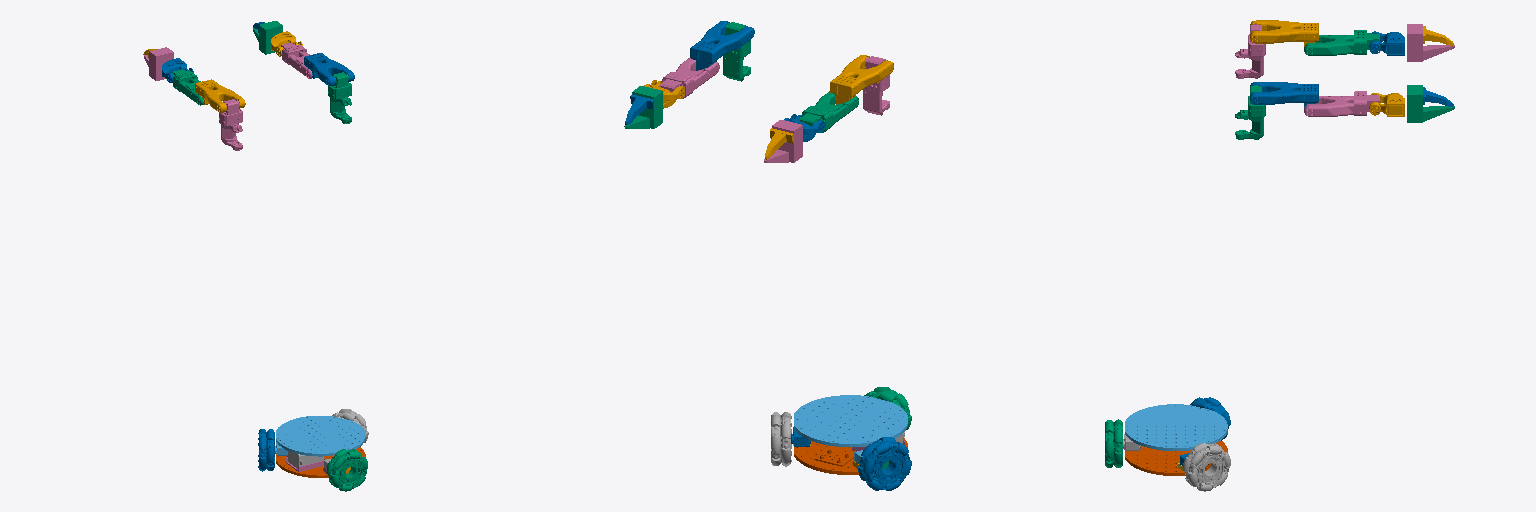
--- What the picture shows (computed from the rendered views, not written in the file) ---
The picture shows the robot from 3 angles, left to right: view 1: azimuth 30°, elevation 25°; view 2: azimuth 150°, elevation 25°; view 3: azimuth 270°, elevation 25°; orthographic projection.
Model converted_robot with 54 links and 53 joints (18 revolute, 35 fixed), rooted at world, posed all joints at 0.
Visible links, largest first — view 1: base_plate_layer2-v1, 4-Omni-Directional-Wheel_Single_Body-v1-2, Rotation_Pitch, Rotation_Pitch_R, Upper_Arm, Upper_Arm_2, 4-Omni-Directional-Wheel_Single_Body-v1, Lower_Arm_2, Lower_Arm, Fixed_Jaw_2, Fixed_Jaw; view 2: base_plate_layer2-v1, 4-Omni-Directional-Wheel_Single_Body-v1, Upper_Arm, Upper_Arm_2, Lower_Arm, Lower_Arm_2, base_plate_layer1-v5-1, 4-Omni-Directional-Wheel_Single_Body-v1-1, Fixed_Jaw_2, Rotation_Pitch, Fixed_Jaw, Rotation_Pitch_R (+1 smaller); view 3: base_plate_layer2-v1, 4-Omni-Directional-Wheel_Single_Body-v1-1, Upper_Arm_2, Upper_Arm, Lower_Arm_2, Lower_Arm, base_plate_layer1-v5-1, Fixed_Jaw, Fixed_Jaw_2, Rotation_Pitch, Rotation_Pitch_R, 4-Omni-Directional-Wheel_Single_Body-v1-2 (+2 smaller).
Boxes of the visible links, x1,y1,x2,y2 form: base_plate_layer2-v1: (276,416,365,456); 4-Omni-Directional-Wheel_Single_Body-v1-2: (327,449,367,491); Rotation_Pitch: (328,72,351,123); Rotation_Pitch_R: (219,99,242,150); Upper_Arm: (304,53,354,85); Upper_Arm_2: (195,79,245,112); 4-Omni-Directional-Wheel_Single_Body-v1: (258,429,274,471); Lower_Arm_2: (172,69,202,105); Lower_Arm: (281,42,312,78); Fixed_Jaw_2: (143,47,173,80); Fixed_Jaw: (253,21,282,54); base_plate_layer2-v1: (794,395,907,446); 4-Omni-Directional-Wheel_Single_Body-v1: (858,437,911,490); Upper_Arm: (690,21,754,70); Upper_Arm_2: (830,55,893,104); Lower_Arm: (659,58,719,98); Lower_Arm_2: (799,91,858,132); base_plate_layer1-v5-1: (794,438,907,474); 4-Omni-Directional-Wheel_Single_Body-v1-1: (771,412,791,466); Fixed_Jaw_2: (764,120,802,162); Rotation_Pitch: (723,22,750,81); Fixed_Jaw: (624,86,662,128); Rotation_Pitch_R: (863,56,889,115); base_plate_layer2-v1: (1125,404,1227,450); 4-Omni-Directional-Wheel_Single_Body-v1-1: (1183,443,1230,491); Upper_Arm_2: (1250,20,1318,46); Upper_Arm: (1250,82,1318,107); Lower_Arm_2: (1304,30,1379,55); Lower_Arm: (1304,91,1379,116); base_plate_layer1-v5-1: (1125,441,1227,475); Fixed_Jaw: (1407,85,1454,122); Fixed_Jaw_2: (1407,24,1454,61); Rotation_Pitch: (1235,85,1265,139); Rotation_Pitch_R: (1235,24,1265,78); 4-Omni-Directional-Wheel_Single_Body-v1-2: (1105,419,1122,467).
Size in the robot's own frame: 0.3701 by 0.7274 by 0.9354 metres.
Meshes: 31 distinct files referenced, 44 mesh visuals loaded (31 OBJ).

URDF robot description (converted_robot):
<?xml version="1.0" ?>
<robot name="converted_robot">
   <!--generated with mjcf_urdf_simple_converter (https://github.com/Yasu31/mjcf_urdf_simple_converter)-->
   <link name="world">
      <inertial>
         <origin xyz="0.0 0.0 0.0" rpy="0.0 0.0 0.0"/>
         <mass value="0.0"/>
         <inertia ixx="0.0" iyy="0.0" izz="0.0" ixy="0" ixz="0" iyz="0"/>
      </inertial>
   </link>
   <link name="chassis">
      <inertial>
         <origin xyz="-0.03 0.0 0.44" rpy="0.0 0.0 0.0"/>
         <mass value="121.60000000000002"/>
         <inertia ixx="7.474346666666668" iyy="7.474346666666668" izz="3.242666666666668" ixy="0" ixz="0" iyz="0"/>
      </inertial>
   </link>
   <link name="slide_joint_x_jointbody">
      <inertial>
         <origin xyz="0.0 0.0 0.0" rpy="0.0 0.0 0.0"/>
         <mass value="0.001"/>
         <inertia ixx="1e-09" iyy="1e-09" izz="1e-09" ixy="0" ixz="0" iyz="0"/>
      </inertial>
   </link>
   <joint type="fixed" name="slide_joint_x">
      <parent link="world"/>
      <child link="slide_joint_x_jointbody"/>
      <origin xyz="0.0 0.0 0.035" rpy="0.0 0.0 1.5707963267948963"/>
   </joint>
   <link name="slide_joint_y_jointbody">
      <inertial>
         <origin xyz="0.0 0.0 0.0" rpy="0.0 0.0 0.0"/>
         <mass value="0.001"/>
         <inertia ixx="1e-09" iyy="1e-09" izz="1e-09" ixy="0" ixz="0" iyz="0"/>
      </inertial>
   </link>
   <joint type="fixed" name="slide_joint_y">
      <parent link="slide_joint_x_jointbody"/>
      <child link="slide_joint_y_jointbody"/>
      <origin xyz="0.0 0.0 0.0" rpy="0.0 0.0 0.0"/>
   </joint>
   <link name="hinge_joint_z_jointbody">
      <inertial>
         <origin xyz="0.0 0.0 0.0" rpy="0.0 0.0 0.0"/>
         <mass value="0.001"/>
         <inertia ixx="1e-09" iyy="1e-09" izz="1e-09" ixy="0" ixz="0" iyz="0"/>
      </inertial>
   </link>
   <joint type="revolute" name="hinge_joint_z">
      <parent link="slide_joint_y_jointbody"/>
      <child link="hinge_joint_z_jointbody"/>
      <origin xyz="0.0 0.0 0.0" rpy="0.0 0.0 0.0"/>
      <axis xyz="0.0 0.0 1.0"/>
      <limit lower="0.0" upper="0.0" effort="100" velocity="100"/>
   </joint>
   <joint type="fixed" name="hinge_joint_z_offset">
      <parent link="hinge_joint_z_jointbody"/>
      <child link="chassis"/>
      <origin xyz="-0.0 -0.0 -0.0" rpy="0.0 0.0 0.0"/>
   </joint>
   <link name="base_plate_layer1-v5-1">
      <inertial>
         <origin xyz="-4.730687660675253e-15 -2.7155537377808555e-05 -0.0035000000000000005" rpy="1.5707963267948966 -1.5707963267948966 0.0"/>
         <mass value="1.9468624348344596"/>
         <inertia ixx="0.0112496514690387" iyy="0.005637109888809055" izz="0.005628440956780792" ixy="0" ixz="0" iyz="0"/>
      </inertial>
      <visual name="base_plate_layer1-v5-1">
         <origin xyz="1.6547356910896818e-18 0.0003708838643271301 -0.0035000000000000434" rpy="3.141592653589793 -1.5707963267948966 0.0"/>
         <geometry>
            <mesh filename="meshes/converted_base_plate_layer1-v5-1_1a1a1aff.obj"/>
         </geometry>
      </visual>
   </link>
   <joint type="fixed" name="chassis2base_plate_layer1-v5-1_fixed">
      <parent link="chassis"/>
      <child link="base_plate_layer1-v5-1"/>
      <origin xyz="0.0 0.0 0.0" rpy="0.0 0.0 -1.5707999999999993"/>
   </joint>
   <link name="drive_motor_mount-v4-3">
      <inertial>
         <origin xyz="0.00017900181977195112 -0.0006914486154622601 0.0004348187449640745" rpy="1.3326788530607252 -1.533188470457113 1.8286854094213272"/>
         <mass value="0.035884017191401885"/>
         <inertia ixx="6.895012244323654e-06" iyy="3.897590469217182e-06" izz="3.2229576175696904e-06" ixy="0" ixz="0" iyz="0"/>
      </inertial>
      <visual name="drive_motor_mount-v4-3">
         <origin xyz="0.0006880539295430664 -0.0025756555856569115 0.001979233474666263" rpy="1.3672248714922477 -1.4830259761528417 1.8282641372384638"/>
         <geometry>
            <mesh filename="meshes/converted_drive_motor_mount-v4-3_1a1a1aff.obj"/>
         </geometry>
      </visual>
   </link>
   <joint type="fixed" name="base_plate_layer1-v5-12drive_motor_mount-v4-3_fixed">
      <parent link="base_plate_layer1-v5-1"/>
      <child link="drive_motor_mount-v4-3"/>
      <origin xyz="-0.020610000007450578 -0.09 0.0020000000000000018" rpy="0.0 0.0 -1.5707963267948963"/>
   </joint>
   <link name="ST3215_Servo_Motor-v1-2">
      <inertial>
         <origin xyz="-0.014664257020729004 -0.008722816656342332 1.2191853053420506e-06" rpy="0.6957375816405541 -1.5704955441732595 2.4128218254215477"/>
         <mass value="0.0658962961901927"/>
         <inertia ixx="1.8215749563864646e-05" iyy="1.3917640925369588e-05" izz="1.0296958536422064e-05" ixy="0" ixz="0" iyz="0"/>
      </inertial>
      <visual name="ST3215_Servo_Motor-v1-2">
         <origin xyz="-0.012685069814093846 -0.009246147385842583 7.93229148671097e-06" rpy="1.1168843627729075e-13 -1.5701888467550913 3.0843844425769635"/>
         <geometry>
            <mesh filename="meshes/converted_ST3215_Servo_Motor-v1-2_1a1a1aff.obj"/>
         </geometry>
      </visual>
   </link>
   <joint type="fixed" name="drive_motor_mount-v4-32ST3215_Servo_Motor-v1-2_fixed">
      <parent link="drive_motor_mount-v4-3"/>
      <child link="ST3215_Servo_Motor-v1-2"/>
      <origin xyz="0.00959999999999999 -0.004889999992549421 0.01436" rpy="0.0 0.0 -1.5707963267948966"/>
   </joint>
   <link name="3_8-Hex-Bore-Plastic-VersaHub-217-5828-v2-2">
      <inertial>
         <origin xyz="8.50877658112488e-09 7.358945011137765e-09 0.0023811166424899887" rpy="1.3775846542408896 -1.5707963267948966 0.0"/>
         <mass value="0.08665496109754897"/>
         <inertia ixx="2.2911778015411222e-05" iyy="1.2296292386099882e-05" izz="1.2296275448662767e-05" ixy="0" ixz="0" iyz="0"/>
      </inertial>
      <visual name="3_8-Hex-Bore-Plastic-VersaHub-217-5828-v2-2">
         <origin xyz="-2.31740751855449e-07 4.3490670360543145e-11 0.002156353199442062" rpy="1.5707963267948966 -1.5707963267948966 0.0"/>
         <geometry>
            <mesh filename="meshes/converted_3_8-Hex-Bore-Plastic-VersaHub-217-5828-v2-2_1a1a1aff.obj"/>
         </geometry>
      </visual>
   </link>
   <link name="ST3215_Servo_Motor-v1-2_Hub---Servo_jointbody">
      <inertial>
         <origin xyz="0.0 0.0 0.0" rpy="0.0 0.0 0.0"/>
         <mass value="0.001"/>
         <inertia ixx="1e-09" iyy="1e-09" izz="1e-09" ixy="0" ixz="0" iyz="0"/>
      </inertial>
   </link>
   <joint type="revolute" name="ST3215_Servo_Motor-v1-2_Hub---Servo">
      <parent link="ST3215_Servo_Motor-v1-2"/>
      <child link="ST3215_Servo_Motor-v1-2_Hub---Servo_jointbody"/>
      <origin xyz="-0.0255 0.009600000000000011 -1.6014967130217864e-18" rpy="1.5707963267948963 0.0 3.141592653589793"/>
      <axis xyz="6.887535064975403e-49 -3.749399456654644e-33 1.0"/>
      <limit lower="0.0" upper="0.0" effort="100" velocity="100"/>
   </joint>
   <joint type="fixed" name="ST3215_Servo_Motor-v1-2_Hub---Servo_offset">
      <parent link="ST3215_Servo_Motor-v1-2_Hub---Servo_jointbody"/>
      <child link="3_8-Hex-Bore-Plastic-VersaHub-217-5828-v2-2"/>
      <origin xyz="4.4408920985006255e-18 3.469446951953615e-18 0.0015874999999999917" rpy="0.0 0.0 0.0"/>
   </joint>
   <link name="4-Omni-Directional-Wheel_Single_Body-v1-2">
      <inertial>
         <origin xyz="-7.105207895657716e-08 -1.1369917947312704e-07 -1.2090586078983279e-08" rpy="1.1450942699554405 -1.5707963267948966 0.0"/>
         <mass value="1.3542854082324305"/>
         <inertia ixx="0.0018798127501507855" iyy="0.0010936224157465258" izz="0.001093608469727632" ixy="0" ixz="0" iyz="0"/>
      </inertial>
      <visual name="4-Omni-Directional-Wheel_Single_Body-v1-2">
         <origin xyz="-4.3761463834788893e-07 -2.2167493676611812e-07 -6.051796797618865e-07" rpy="-2.8016263573762226 -1.5707588802687238 -1.7315038292053941e-12"/>
         <geometry>
            <mesh filename="meshes/converted_4-Omni-Directional-Wheel_Single_Body-v1-2_1a1a1aff.obj"/>
         </geometry>
      </visual>
   </link>
   <joint type="fixed" name="3_8-Hex-Bore-Plastic-VersaHub-217-5828-v2-224-Omni-Directional-Wheel_Single_Body-v1-2_fixed">
      <parent link="3_8-Hex-Bore-Plastic-VersaHub-217-5828-v2-2"/>
      <child link="4-Omni-Directional-Wheel_Single_Body-v1-2"/>
      <origin xyz="-2.453269466693399e-18 0.0 0.0174625" rpy="3.141592653589793 0.0 0.26179938779914935"/>
   </joint>
   <link name="drive_motor_mount-v4-2">
      <inertial>
         <origin xyz="0.00017900181977194513 -0.0006914486154622601 0.00043481874496407525" rpy="1.3326788530607043 -1.5331884704571133 1.8286854094213254"/>
         <mass value="0.035884017191401885"/>
         <inertia ixx="6.895012244323669e-06" iyy="3.897590469217222e-06" izz="3.222957617569707e-06" ixy="0" ixz="0" iyz="0"/>
      </inertial>
      <visual name="drive_motor_mount-v4-2">
         <origin xyz="0.0006880539295430664 -0.0025756555856569115 0.001979233474666263" rpy="1.3672248714922477 -1.4830259761528417 1.8282641372384638"/>
         <geometry>
            <mesh filename="meshes/converted_drive_motor_mount-v4-2_1a1a1aff.obj"/>
         </geometry>
      </visual>
   </link>
   <joint type="fixed" name="base_plate_layer1-v5-12drive_motor_mount-v4-2_fixed">
      <parent link="base_plate_layer1-v5-1"/>
      <child link="drive_motor_mount-v4-2"/>
      <origin xyz="0.08824728634432479 0.027151216421550314 0.001999999999999993" rpy="0.0 0.0 0.5235987755982998"/>
   </joint>
   <link name="ST3215_Servo_Motor-v1-1">
      <inertial>
         <origin xyz="-0.014664257020728995 -0.008722816656342374 1.2191853053600496e-06" rpy="0.6957375816405406 -1.5704955441732595 2.4128218254215343"/>
         <mass value="0.0658962961901927"/>
         <inertia ixx="1.821574956386424e-05" iyy="1.3917640925369832e-05" izz="1.0296958536421656e-05" ixy="0" ixz="0" iyz="0"/>
      </inertial>
      <visual name="ST3215_Servo_Motor-v1-1">
         <origin xyz="-0.012685069814093846 -0.009246147385842583 7.93229148671097e-06" rpy="1.1168843627729075e-13 -1.5701888467550913 3.0843844425769635"/>
         <geometry>
            <mesh filename="meshes/converted_ST3215_Servo_Motor-v1-1_1a1a1aff.obj"/>
         </geometry>
      </visual>
   </link>
   <joint type="fixed" name="drive_motor_mount-v4-22ST3215_Servo_Motor-v1-1_fixed">
      <parent link="drive_motor_mount-v4-2"/>
      <child link="ST3215_Servo_Motor-v1-1"/>
      <origin xyz="0.010400000000000081 -0.004889999992549394 0.014359999999999984" rpy="8.881784197001252e-16 0.0 -1.5707963267948966"/>
   </joint>
   <link name="3_8-Hex-Bore-Plastic-VersaHub-217-5828-v2-1">
      <inertial>
         <origin xyz="8.508776579152501e-09 7.358945011269938e-09 0.0023811166424899787" rpy="1.3775846494379476 -1.5707963267948963 0.0"/>
         <mass value="0.08665496109754897"/>
         <inertia ixx="2.2911778015411093e-05" iyy="1.2296292386099982e-05" izz="1.2296275448663169e-05" ixy="0" ixz="0" iyz="0"/>
      </inertial>
      <visual name="3_8-Hex-Bore-Plastic-VersaHub-217-5828-v2-1">
         <origin xyz="-2.31740751855449e-07 4.3490670360543145e-11 0.002156353199442062" rpy="1.5707963267948966 -1.5707963267948966 0.0"/>
         <geometry>
            <mesh filename="meshes/converted_3_8-Hex-Bore-Plastic-VersaHub-217-5828-v2-1_1a1a1aff.obj"/>
         </geometry>
      </visual>
   </link>
   <link name="ST3215_Servo_Motor-v1-1_Hub-2---Servo_jointbody">
      <inertial>
         <origin xyz="0.0 0.0 0.0" rpy="0.0 0.0 0.0"/>
         <mass value="0.001"/>
         <inertia ixx="1e-09" iyy="1e-09" izz="1e-09" ixy="0" ixz="0" iyz="0"/>
      </inertial>
   </link>
   <joint type="revolute" name="ST3215_Servo_Motor-v1-1_Hub-2---Servo">
      <parent link="ST3215_Servo_Motor-v1-1"/>
      <child link="ST3215_Servo_Motor-v1-1_Hub-2---Servo_jointbody"/>
      <origin xyz="-0.025499897208144117 0.009600178040716863 -7.203242697645478e-18" rpy="-1.5707963267948961 0.0 -1.1102230246251565e-16"/>
      <axis xyz="-2.0189229004166797e-07 5.55111706428237e-17 0.9999999999999796"/>
      <limit lower="0.0" upper="0.0" effort="100" velocity="100"/>
   </joint>
   <joint type="fixed" name="ST3215_Servo_Motor-v1-1_Hub-2---Servo_offset">
      <parent link="ST3215_Servo_Motor-v1-1_Hub-2---Servo_jointbody"/>
      <child link="3_8-Hex-Bore-Plastic-VersaHub-217-5828-v2-1"/>
      <origin xyz="-1.0279185592260934e-07 -6.850769951327593e-18 0.0015873219592831226" rpy="0.0 0.0 0.0"/>
   </joint>
   <link name="4-Omni-Directional-Wheel_Single_Body-v1-1">
      <inertial>
         <origin xyz="-7.105207896524954e-08 -1.1369917948959942e-07 -1.2090586104095832e-08" rpy="1.1450942698954654 -1.5707963267948963 0.0"/>
         <mass value="1.3542854082324305"/>
         <inertia ixx="0.0018798127501507892" iyy="0.0010936224157465115" izz="0.0010936084697276175" ixy="0" ixz="0" iyz="0"/>
      </inertial>
      <visual name="4-Omni-Directional-Wheel_Single_Body-v1-1">
         <origin xyz="-4.3761463834788893e-07 -2.2167493676611812e-07 -6.051796797618865e-07" rpy="-2.8016263573762226 -1.5707588802687238 -1.7315038292053941e-12"/>
         <geometry>
            <mesh filename="meshes/converted_4-Omni-Directional-Wheel_Single_Body-v1-1_1a1a1aff.obj"/>
         </geometry>
      </visual>
   </link>
   <joint type="fixed" name="3_8-Hex-Bore-Plastic-VersaHub-217-5828-v2-124-Omni-Directional-Wheel_Single_Body-v1-1_fixed">
      <parent link="3_8-Hex-Bore-Plastic-VersaHub-217-5828-v2-1"/>
      <child link="4-Omni-Directional-Wheel_Single_Body-v1-1"/>
      <origin xyz="-8.88178419700111e-18 3.3306690738754695e-17 0.01746250000000007" rpy="-3.141592653589793 0.0 -1.832595714594046"/>
   </joint>
   <link name="drive_motor_mount-v4-1">
      <inertial>
         <origin xyz="0.0001790018197719455 -0.0006914486154622614 0.0004348187449640748" rpy="1.3326788530606926 -1.533188470457107 1.8286854094212919"/>
         <mass value="0.035884017191401885"/>
         <inertia ixx="6.895012244323559e-06" iyy="3.897590469217194e-06" izz="3.222957617569697e-06" ixy="0" ixz="0" iyz="0"/>
      </inertial>
      <visual name="drive_motor_mount-v4-1">
         <origin xyz="0.0006880539295430664 -0.0025756555856569115 0.001979233474666263" rpy="1.3672248714922477 -1.4830259761528417 1.8282641372384638"/>
         <geometry>
            <mesh filename="meshes/converted_drive_motor_mount-v4-1_1a1a1aff.obj"/>
         </geometry>
      </visual>
   </link>
   <joint type="fixed" name="base_plate_layer1-v5-12drive_motor_mount-v4-1_fixed">
      <parent link="base_plate_layer1-v5-1"/>
      <child link="drive_motor_mount-v4-1"/>
      <origin xyz="-0.06763728633687423 0.06284878357844971 0.0020000000000000018" rpy="0.0 2.220446049250313e-16 2.617993877991494"/>
   </joint>
   <link name="ST3215_Servo_Motor-v1">
      <inertial>
         <origin xyz="-0.014664257020729005 -0.00872281665634233 1.2191853053530741e-06" rpy="0.6957375816406348 -1.5704955441732595 2.4128218254214806"/>
         <mass value="0.0658962961901927"/>
         <inertia ixx="1.8215749563864435e-05" iyy="1.3917640925369552e-05" izz="1.0296958536421981e-05" ixy="0" ixz="0" iyz="0"/>
      </inertial>
      <visual name="ST3215_Servo_Motor-v1">
         <origin xyz="-0.012685069814093846 -0.009246147385842583 7.93229148671097e-06" rpy="1.1168843627729075e-13 -1.5701888467550913 3.0843844425769635"/>
         <geometry>
            <mesh filename="meshes/converted_ST3215_Servo_Motor-v1_1a1a1aff.obj"/>
         </geometry>
      </visual>
   </link>
   <joint type="fixed" name="drive_motor_mount-v4-12ST3215_Servo_Motor-v1_fixed">
      <parent link="drive_motor_mount-v4-1"/>
      <child link="ST3215_Servo_Motor-v1"/>
      <origin xyz="0.00959999999999999 -0.004889999992549434 0.014360000000000013" rpy="2.220446049250313e-16 0.0 -1.5707963267948963"/>
   </joint>
   <link name="3_8-Hex-Bore-Plastic-VersaHub-217-5828-v2">
      <inertial>
         <origin xyz="8.508776583007207e-09 7.358945014555165e-09 0.0023811166424899874" rpy="1.3775846476317293 -1.5707963267948966 0.0"/>
         <mass value="0.08665496109754897"/>
         <inertia ixx="2.291177801541124e-05" iyy="1.2296292386099675e-05" izz="1.2296275448663121e-05" ixy="0" ixz="0" iyz="0"/>
      </inertial>
      <visual name="3_8-Hex-Bore-Plastic-VersaHub-217-5828-v2">
         <origin xyz="-2.31740751855449e-07 4.3490670360543145e-11 0.002156353199442062" rpy="1.5707963267948966 -1.5707963267948966 0.0"/>
         <geometry>
            <mesh filename="meshes/converted_3_8-Hex-Bore-Plastic-VersaHub-217-5828-v2_1a1a1aff.obj"/>
         </geometry>
      </visual>
   </link>
   <link name="ST3215_Servo_Motor-v1_Revolute-40_jointbody">
      <inertial>
         <origin xyz="0.0 0.0 0.0" rpy="0.0 0.0 0.0"/>
         <mass value="0.001"/>
         <inertia ixx="1e-09" iyy="1e-09" izz="1e-09" ixy="0" ixz="0" iyz="0"/>
      </inertial>
   </link>
   <joint type="revolute" name="ST3215_Servo_Motor-v1_Revolute-40">
      <parent link="ST3215_Servo_Motor-v1"/>
      <child link="ST3215_Servo_Motor-v1_Revolute-40_jointbody"/>
      <origin xyz="-0.025500012953369677 0.009600022435894327 -3.693124347611029e-17" rpy="-1.5707963267948966 1.5707963267948961 0.0"/>
      <axis xyz="-1.2961511400282816e-16 -2.0189228959757866e-07 0.9999999999999796"/>
      <limit lower="0.0" upper="0.0" effort="100" velocity="100"/>
   </joint>
   <joint type="fixed" name="ST3215_Servo_Motor-v1_Revolute-40_offset">
      <parent link="ST3215_Servo_Motor-v1_Revolute-40_jointbody"/>
      <child link="3_8-Hex-Bore-Plastic-VersaHub-217-5828-v2"/>
      <origin xyz="-2.796134304347991e-17 -1.2953369686987196e-08 0.0015874775641056748" rpy="0.0 0.0 0.0"/>
   </joint>
   <link name="4-Omni-Directional-Wheel_Single_Body-v1">
      <inertial>
         <origin xyz="-7.105207895771595e-08 -1.1369917947234093e-07 -1.2090586101420118e-08" rpy="1.1450942700486673 -1.5707963267948966 0.0"/>
         <mass value="1.3542854082324305"/>
         <inertia ixx="0.0018798127501507824" iyy="0.0010936224157465143" izz="0.0010936084697276197" ixy="0" ixz="0" iyz="0"/>
      </inertial>
      <visual name="4-Omni-Directional-Wheel_Single_Body-v1">
         <origin xyz="-4.3761463834788893e-07 -2.2167493676611812e-07 -6.051796797618865e-07" rpy="-2.8016263573762226 -1.5707588802687238 -1.7315038292053941e-12"/>
         <geometry>
            <mesh filename="meshes/converted_4-Omni-Directional-Wheel_Single_Body-v1_1a1a1aff.obj"/>
         </geometry>
      </visual>
   </link>
   <joint type="fixed" name="3_8-Hex-Bore-Plastic-VersaHub-217-5828-v224-Omni-Directional-Wheel_Single_Body-v1_fixed">
      <parent link="3_8-Hex-Bore-Plastic-VersaHub-217-5828-v2"/>
      <child link="4-Omni-Directional-Wheel_Single_Body-v1"/>
      <origin xyz="-2.220446049250313e-18 -7.105427357601001e-17 0.017462499999999947" rpy="3.141592653589793 0.0 0.26179938779914935"/>
   </joint>
   <link name="servo_controller_mount-v1">
      <inertial>
         <origin xyz="-3.6769132064861433e-14 0.0 -0.0012090515491760903" rpy="3.141592653589793 -1.5707963267948966 0.0"/>
         <mass value="0.06175589411431898"/>
         <inertia ixx="2.9413765100515303e-05" iyy="1.8890192778258753e-05" izz="1.0761471541836937e-05" ixy="0" ixz="0" iyz="0"/>
      </inertial>
      <visual name="servo_controller_mount-v1">
         <origin xyz="1.8001921238730876e-18 1.7808763150656085e-19 -0.0004584749655837147" rpy="3.141592653589793 -1.5707963267948966 0.0"/>
         <geometry>
            <mesh filename="meshes/converted_servo_controller_mount-v1_1a1a1aff.obj"/>
         </geometry>
      </visual>
   </link>
   <joint type="fixed" name="base_plate_layer1-v5-12servo_controller_mount-v1_fixed">
      <parent link="base_plate_layer1-v5-1"/>
      <child link="servo_controller_mount-v1"/>
      <origin xyz="0.0 0.06 0.0029999999999999983" rpy="0.0 0.0 0.0"/>
   </joint>
   <link name="lipo_battery_mount-v1">
      <inertial>
         <origin xyz="-4.0023770071114873e-16 -0.003034408758946965 0.003481111705280585" rpy="4.6629367034256575e-15 -1.5469505106715349 1.570796326794892"/>
         <mass value="0.1653518573066047"/>
         <inertia ixx="0.00016969258948396697" iyy="9.882008372625315e-05" izz="7.473752062209069e-05" ixy="0" ixz="0" iyz="0"/>
      </inertial>
      <visual name="lipo_battery_mount-v1">
         <origin xyz="-1.7724144909809344e-19 -0.006258736850756178 0.005673291513390855" rpy="0.0 -1.5470757814152625 1.5707963267948966"/>
         <geometry>
            <mesh filename="meshes/converted_lipo_battery_mount-v1_1a1a1aff.obj"/>
         </geometry>
      </visual>
   </link>
   <joint type="fixed" name="base_plate_layer1-v5-12lipo_battery_mount-v1_fixed">
      <parent link="base_plate_layer1-v5-1"/>
      <child link="lipo_battery_mount-v1"/>
      <origin xyz="-0.05 -0.02 0.0" rpy="0.0 0.0 1.570796326794897"/>
   </joint>
   <link name="Battery---Battery-5.2-Ah-DC5521-Plug-v2">
      <inertial>
         <origin xyz="0.020000000000000018 -8.300646300726007e-05 -0.03492202423172039" rpy="0.017053813401158514 0.0 0.0"/>
         <mass value="1.2215469988184764"/>
         <inertia ixx="0.0008162228074590442" iyy="0.0006598124478702281" izz="0.00047592473683502807" ixy="0" ixz="0" iyz="0"/>
      </inertial>
      <visual name="Battery---Battery-5.2-Ah-DC5521-Plug-v2">
         <origin xyz="0.02000000002877551 -0.0003731902127269514 -0.03466677934525622" rpy="0.06238168195333217 0.0 0.0"/>
         <geometry>
            <mesh filename="meshes/converted_Battery---Battery-5.2-Ah-DC5521-Plug-v2_1a1a1aff.obj"/>
         </geometry>
      </visual>
   </link>
   <joint type="fixed" name="lipo_battery_mount-v12Battery---Battery-5.2-Ah-DC5521-Plug-v2_fixed">
      <parent link="lipo_battery_mount-v1"/>
      <child link="Battery---Battery-5.2-Ah-DC5521-Plug-v2"/>
      <origin xyz="2.220446049250313e-18 0.036499999999999984 0.003000000000000007" rpy="-1.5707963267948966 -1.5707963267948963 0.0"/>
   </joint>
   <link name="94868A713_NO-THREADS_Female-Threaded-Hex-Standoff">
      <inertial>
         <origin xyz="2.1864399078485972e-14 -1.2010287423717232e-09 -6.6970201384464195e-09" rpy="0.0 0.0 0.0"/>
         <mass value="0.006150070863406618"/>
         <inertia ixx="1.0965196650850464e-06" iyy="1.096519654894581e-06" izz="1.837396493115053e-08" ixy="0" ixz="0" iyz="0"/>
      </inertial>
      <visual name="94868A713_NO-THREADS_Female-Threaded-Hex-Standoff">
         <origin xyz="-2.5031626759400404e-11 1.7003118303545867e-10 1.7880459541001243e-06" rpy="0.0 0.0 0.0"/>
         <geometry>
            <mesh filename="meshes/converted_94868A713_NO-THREADS_Female-Threaded-Hex-Standoff_1a1a1aff.obj"/>
         </geometry>
      </visual>
   </link>
   <joint type="fixed" name="base_plate_layer1-v5-1294868A713_NO-THREADS_Female-Threaded-Hex-Standoff_fixed">
      <parent link="base_plate_layer1-v5-1"/>
      <child link="94868A713_NO-THREADS_Female-Threaded-Hex-Standoff"/>
      <origin xyz="0.0 1.3010426069826053e-18 0.025" rpy="0.0 0.0 0.0"/>
   </joint>
   <link name="base_plate_layer2-v1">
      <inertial>
         <origin xyz="-4.730687660675253e-15 -2.7155537377808555e-05 -0.0034999999999999966" rpy="1.5707963267948966 -1.5707963267948966 0.0"/>
         <mass value="1.9468624348344596"/>
         <inertia ixx="0.0112496514690387" iyy="0.0056371098888090545" izz="0.005628440956780792" ixy="0" ixz="0" iyz="0"/>
      </inertial>
      <visual name="base_plate_layer2-v1">
         <origin xyz="1.6547356910896818e-18 0.0003708838643271301 -0.0035000000000000434" rpy="3.141592653589793 -1.5707963267948966 0.0"/>
         <geometry>
            <mesh filename="meshes/converted_base_plate_layer2-v1_1a1a1aff.obj"/>
         </geometry>
      </visual>
   </link>
   <joint type="fixed" name="base_plate_layer1-v5-12base_plate_layer2-v1_fixed">
      <parent link="base_plate_layer1-v5-1"/>
      <child link="base_plate_layer2-v1"/>
      <origin xyz="0.0 -6.430841866638185e-19 0.056999999999999995" rpy="0.0 0.0 0.0"/>
   </joint>
   <link name="Rotation_Pitch">
      <inertial>
         <origin xyz="-9.07886e-05 0.0590972 0.031089" rpy="-2.02022175562436 -1.1792653163053113 -2.704822025216412"/>
         <mass value="0.119226"/>
         <inertia ixx="5.94278e-05" iyy="5.89975e-05" izz="3.13712e-05" ixy="0" ixz="0" iyz="0"/>
      </inertial>
      <visual name="Rotation_Pitch">
         <origin xyz="-9.71396013674607e-05 0.048394104000293064 0.02798073799987563" rpy="1.9340105108729455 0.047665955232872204 0.022761796817159285"/>
         <geometry>
            <mesh filename="meshes/converted_Rotation_Pitch_4c4c4cff.obj"/>
         </geometry>
      </visual>
      <visual name="Rotation_Pitch_Motor">
         <origin xyz="0.0002821294283076582 0.0910662575655134 0.030599999595982006" rpy="1.5956447371527482 -1.5707963267948966 0.0"/>
         <geometry>
            <mesh filename="meshes/converted_Rotation_Pitch_Motor_4c4c4cff.obj"/>
         </geometry>
      </visual>
   </link>
   <link name="Rotation_L_jointbody">
      <inertial>
         <origin xyz="0.0 0.0 0.0" rpy="0.0 0.0 0.0"/>
         <mass value="0.001"/>
         <inertia ixx="1e-09" iyy="1e-09" izz="1e-09" ixy="0" ixz="0" iyz="0"/>
      </inertial>
   </link>
   <joint type="revolute" name="Rotation_L">
      <parent link="chassis"/>
      <child link="Rotation_L_jointbody"/>
      <origin xyz="0.1352 -0.15 0.7865" rpy="1.5708003267948967 -8.000045070843953e-12 1.5708003267948967"/>
      <axis xyz="0.0 -1.0 0.0"/>
      <limit lower="-2.1" upper="2.1" effort="100" velocity="100"/>
   </joint>
   <joint type="fixed" name="Rotation_L_offset">
      <parent link="Rotation_L_jointbody"/>
      <child link="Rotation_Pitch"/>
      <origin xyz="-0.0 -0.0 -0.0" rpy="0.0 0.0 0.0"/>
   </joint>
   <link name="Upper_Arm">
      <inertial>
         <origin xyz="-1.72052e-05 0.0701802 0.00310545" rpy="0.01562330823009428 -1.5559914074562653 1.565885366045783"/>
         <mass value="0.162409"/>
         <inertia ixx="0.000213312" iyy="0.000167164" izz="7.01522e-05" ixy="0" ixz="0" iyz="0"/>
      </inertial>
      <visual name="Upper_Arm">
         <origin xyz="-0.00011865634011972692 0.05832568141506618 -0.0005516072185066316" rpy="-0.20055377531252383 -1.5542347087967863 1.7634399711846078"/>
         <geometry>
            <mesh filename="meshes/converted_Upper_Arm_4c4c4cff.obj"/>
         </geometry>
      </visual>
      <visual name="Upper_Arm_Motor">
         <origin xyz="0.0002824080236501592 0.11256958071662684 0.01656578439675917" rpy="-0.02495120011051255 0.0 1.5707963267948966"/>
         <geometry>
            <mesh filename="meshes/converted_Upper_Arm_Motor_4c4c4cff.obj"/>
         </geometry>
      </visual>
   </link>
   <link name="Pitch_L_jointbody">
      <inertial>
         <origin xyz="0.0 0.0 0.0" rpy="0.0 0.0 0.0"/>
         <mass value="0.001"/>
         <inertia ixx="1e-09" iyy="1e-09" izz="1e-09" ixy="0" ixz="0" iyz="0"/>
      </inertial>
   </link>
   <joint type="revolute" name="Pitch_L">
      <parent link="Rotation_Pitch"/>
      <child link="Pitch_L_jointbody"/>
      <origin xyz="0.0 0.1025 0.0306" rpy="1.5708005694372709 0.0 0.0"/>
      <axis xyz="-1.0 0.0 0.0"/>
      <limit lower="-0.1" upper="3.45" effort="100" velocity="100"/>
   </joint>
   <joint type="fixed" name="Pitch_L_offset">
      <parent link="Pitch_L_jointbody"/>
      <child link="Upper_Arm"/>
      <origin xyz="-0.0 -0.0 -0.0" rpy="0.0 0.0 0.0"/>
   </joint>
   <link name="Lower_Arm">
      <inertial>
         <origin xyz="-0.00339604 0.00137796 0.0768007" rpy="0.20308395840613425 -0.02044137496185705 1.5727849239911165"/>
         <mass value="0.147968"/>
         <inertia ixx="0.000138803" iyy="0.000107748" izz="4.84242e-05" ixy="0" ixz="0" iyz="0"/>
      </inertial>
      <visual name="Lower_Arm">
         <origin xyz="-0.003342960129966465 0.0006631925498791134 0.06445247050319962" rpy="0.1342575042053914 0.01251196087919082 1.5777756799308937"/>
         <geometry>
            <mesh filename="meshes/converted_Lower_Arm_4c4c4cff.obj"/>
         </geometry>
      </visual>
      <visual name="Lower_Arm_Motor">
         <origin xyz="0.00028232823794038526 0.005199999409811129 0.12346637773743836" rpy="-0.024916692845763144 0.0 1.5707963267948966"/>
         <geometry>
            <mesh filename="meshes/converted_Lower_Arm_Motor_4c4c4cff.obj"/>
         </geometry>
      </visual>
   </link>
   <link name="Elbow_L_jointbody">
      <inertial>
         <origin xyz="0.0 0.0 0.0" rpy="0.0 0.0 0.0"/>
         <mass value="0.001"/>
         <inertia ixx="1e-09" iyy="1e-09" izz="1e-09" ixy="0" ixz="0" iyz="0"/>
      </inertial>
   </link>
   <joint type="revolute" name="Elbow_L">
      <parent link="Upper_Arm"/>
      <child link="Elbow_L_jointbody"/>
      <origin xyz="0.0 0.11257 0.028" rpy="-1.5708005694372709 0.0 0.0"/>
      <axis xyz="1.0 0.0 0.0"/>
      <limit lower="-0.2" upper="3.14159" effort="100" velocity="100"/>
   </joint>
   <joint type="fixed" name="Elbow_L_offset">
      <parent link="Elbow_L_jointbody"/>
      <child link="Lower_Arm"/>
      <origin xyz="-0.0 -0.0 -0.0" rpy="0.0 0.0 0.0"/>
   </joint>
   <link name="Wrist_Pitch_Roll">
      <inertial>
         <origin xyz="-0.00852653 -0.0352279 -2.34622e-05" rpy="1.769584329819999 -1.5669891177302473 1.5238046200474322"/>
         <mass value="0.0661321"/>
         <inertia ixx="3.45403e-05" iyy="2.39041e-05" izz="1.94704e-05" ixy="0" ixz="0" iyz="0"/>
      </inertial>
      <visual name="Wrist_Pitch_Roll">
         <origin xyz="-0.006684628764382254 -0.02753016370096717 2.7278930108091446e-05" rpy="2.692099912871597 -1.568603642439537 -1.672760013668218"/>
         <geometry>
            <mesh filename="meshes/converted_Wrist_Pitch_Roll_4c4c4cff.obj"/>
         </geometry>
      </visual>
      <visual name="Wrist_Pitch_Roll_Motor">
         <origin xyz="-0.012298905250543843 -0.043588838749783344 8.634577517040281e-08" rpy="2.960861846183543 -1.5707963267948966 0.0"/>
         <geometry>
            <mesh filename="meshes/converted_Wrist_Pitch_Roll_Motor_4c4c4cff.obj"/>
         </geometry>
      </visual>
   </link>
   <link name="Wrist_Pitch_L_jointbody">
      <inertial>
         <origin xyz="0.0 0.0 0.0" rpy="0.0 0.0 0.0"/>
         <mass value="0.001"/>
         <inertia ixx="1e-09" iyy="1e-09" izz="1e-09" ixy="0" ixz="0" iyz="0"/>
      </inertial>
   </link>
   <joint type="revolute" name="Wrist_Pitch_L">
      <parent link="Lower_Arm"/>
      <child link="Wrist_Pitch_L_jointbody"/>
      <origin xyz="0.0 0.0052 0.1349" rpy="-1.5708005694372709 0.0 0.0"/>
      <axis xyz="1.0 0.0 0.0"/>
      <limit lower="-1.8" upper="1.8" effort="100" velocity="100"/>
   </joint>
   <joint type="fixed" name="Wrist_Pitch_L_offset">
      <parent link="Wrist_Pitch_L_jointbody"/>
      <child link="Wrist_Pitch_Roll"/>
      <origin xyz="-0.0 -0.0 -0.0" rpy="0.0 0.0 0.0"/>
   </joint>
   <link name="Fixed_Jaw">
      <inertial>
         <origin xyz="0.00552377 -0.0280167 0.000483583" rpy="1.7053264699642203 -1.4443521692125436 0.28382999813639964"/>
         <mass value="0.0929859"/>
         <inertia ixx="5.03136e-05" iyy="4.64098e-05" izz="2.72961e-05" ixy="0" ixz="0" iyz="0"/>
      </inertial>
      <visual name="Fixed_Jaw_part1">
         <origin xyz="0.002370830625295638 -0.02259375434368848 9.352991370092149e-20" rpy="1.5707963267948966 0.0 1.5707963267948966"/>
         <geometry>
            <mesh filename="meshes/converted_Fixed_Jaw_part1_4c4c4cff.obj"/>
         </geometry>
      </visual>
      <visual name="Fixed_Jaw_part2">
         <origin xyz="0.02072306865830847 -0.06056148912160309 -2.989134148987697e-05" rpy="1.5699131300500286 0.0 -0.25989517792548344"/>
         <geometry>
            <mesh filename="meshes/converted_Fixed_Jaw_part2_4c4c4cff.obj"/>
         </geometry>
      </visual>
   </link>
   <link name="Wrist_Roll_L_jointbody">
      <inertial>
         <origin xyz="0.0 0.0 0.0" rpy="0.0 0.0 0.0"/>
         <mass value="0.001"/>
         <inertia ixx="1e-09" iyy="1e-09" izz="1e-09" ixy="0" ixz="0" iyz="0"/>
      </inertial>
   </link>
   <joint type="revolute" name="Wrist_Roll_L">
      <parent link="Wrist_Pitch_Roll"/>
      <child link="Wrist_Roll_L_jointbody"/>
      <origin xyz="0.0 -0.0601 0.0" rpy="3.141592653589793 1.5707920841525227 3.141592653589793"/>
      <axis xyz="0.0 -1.0 0.0"/>
      <limit lower="-3.14159" upper="3.14159" effort="100" velocity="100"/>
   </joint>
   <joint type="fixed" name="Wrist_Roll_L_offset">
      <parent link="Wrist_Roll_L_jointbody"/>
      <child link="Fixed_Jaw"/>
      <origin xyz="-0.0 -0.0 -0.0" rpy="0.0 0.0 0.0"/>
   </joint>
   <link name="Moving_Jaw">
      <inertial>
         <origin xyz="-0.00161745 -0.0303473 0.000449646" rpy="1.5993733432394677 -0.000869655493578092 -0.06605652478637691"/>
         <mass value="0.0202444"/>
         <inertia ixx="1.11265e-05" iyy="8.99651e-06" izz="2.99548e-06" ixy="0" ixz="0" iyz="0"/>
      </inertial>
      <visual name="Moving_Jaw_part1">
         <origin xyz="-0.000891446135938168 -0.005684315226972102 3.5394351057425176e-20" rpy="0.0 0.0 0.0"/>
         <geometry>
            <mesh filename="meshes/converted_Moving_Jaw_part1_1a1a1aff.obj"/>
         </geometry>
      </visual>
      <visual name="Moving_Jaw_part2">
         <origin xyz="-0.0009820987070827286 -0.03622216970663146 -1.7316727853332697e-05" rpy="1.563751479169175 -0.011936849368613167 -0.03760638216005585"/>
         <geometry>
            <mesh filename="meshes/converted_Moving_Jaw_part2_1a1a1aff.obj"/>
         </geometry>
      </visual>
      <visual name="Moving_Jaw_part3">
         <origin xyz="-0.005920968594094594 -0.06541126295518045 0.00015843005340199895" rpy="1.5707963267948966 0.0 -0.23361822681618516"/>
         <geometry>
            <mesh filename="meshes/converted_Moving_Jaw_part3_1a1a1aff.obj"/>
         </geometry>
      </visual>
   </link>
   <link name="Jaw_L_jointbody">
      <inertial>
         <origin xyz="0.0 0.0 0.0" rpy="0.0 0.0 0.0"/>
         <mass value="0.001"/>
         <inertia ixx="1e-09" iyy="1e-09" izz="1e-09" ixy="0" ixz="0" iyz="0"/>
      </inertial>
   </link>
   <joint type="revolute" name="Jaw_L">
      <parent link="Fixed_Jaw"/>
      <child link="Jaw_L_jointbody"/>
      <origin xyz="-0.0202 -0.0244 0.0" rpy="-3.141585307175796 -2.4868995751603507e-14 -2.953185290772602"/>
      <axis xyz="0.0 0.0 1.0"/>
      <limit lower="-3.14159" upper="3.14159" effort="100" velocity="100"/>
   </joint>
   <joint type="fixed" name="Jaw_L_offset">
      <parent link="Jaw_L_jointbody"/>
      <child link="Moving_Jaw"/>
      <origin xyz="-0.0 -0.0 -0.0" rpy="0.0 0.0 0.0"/>
   </joint>
   <link name="Rotation_Pitch_R">
      <inertial>
         <origin xyz="-9.07886e-05 0.0590972 0.031089" rpy="-2.02022175562436 -1.1792653163053113 -2.704822025216412"/>
         <mass value="0.119226"/>
         <inertia ixx="5.94278e-05" iyy="5.89975e-05" izz="3.13712e-05" ixy="0" ixz="0" iyz="0"/>
      </inertial>
      <visual name="Rotation_Pitch">
         <origin xyz="-9.71396013674607e-05 0.048394104000293064 0.02798073799987563" rpy="1.9340105108729455 0.047665955232872204 0.022761796817159285"/>
         <geometry>
            <mesh filename="meshes/converted_Rotation_Pitch_4c4c4cff.obj"/>
         </geometry>
      </visual>
      <visual name="Rotation_Pitch_Motor">
         <origin xyz="0.0002821294283076582 0.0910662575655134 0.030599999595982006" rpy="1.5956447371527482 -1.5707963267948966 0.0"/>
         <geometry>
            <mesh filename="meshes/converted_Rotation_Pitch_Motor_4c4c4cff.obj"/>
         </geometry>
      </visual>
   </link>
   <link name="Rotation_R_jointbody">
      <inertial>
         <origin xyz="0.0 0.0 0.0" rpy="0.0 0.0 0.0"/>
         <mass value="0.001"/>
         <inertia ixx="1e-09" iyy="1e-09" izz="1e-09" ixy="0" ixz="0" iyz="0"/>
      </inertial>
   </link>
   <joint type="revolute" name="Rotation_R">
      <parent link="chassis"/>
      <child link="Rotation_R_jointbody"/>
      <origin xyz="0.1352 0.15 0.7865" rpy="1.5708003267948967 -8.000045070843953e-12 1.5708003267948967"/>
      <axis xyz="0.0 -1.0 0.0"/>
      <limit lower="-2.1" upper="2.1" effort="100" velocity="100"/>
   </joint>
   <joint type="fixed" name="Rotation_R_offset">
      <parent link="Rotation_R_jointbody"/>
      <child link="Rotation_Pitch_R"/>
      <origin xyz="-0.0 -0.0 -0.0" rpy="0.0 0.0 0.0"/>
   </joint>
   <link name="Upper_Arm_2">
      <inertial>
         <origin xyz="-1.72052e-05 0.0701802 0.00310545" rpy="0.01562330823009428 -1.5559914074562653 1.565885366045783"/>
         <mass value="0.162409"/>
         <inertia ixx="0.000213312" iyy="0.000167164" izz="7.01522e-05" ixy="0" ixz="0" iyz="0"/>
      </inertial>
      <visual name="Upper_Arm">
         <origin xyz="-0.00011865634011972692 0.05832568141506618 -0.0005516072185066316" rpy="-0.20055377531252383 -1.5542347087967863 1.7634399711846078"/>
         <geometry>
            <mesh filename="meshes/converted_Upper_Arm_4c4c4cff.obj"/>
         </geometry>
      </visual>
      <visual name="Upper_Arm_Motor">
         <origin xyz="0.0002824080236501592 0.11256958071662684 0.01656578439675917" rpy="-0.02495120011051255 0.0 1.5707963267948966"/>
         <geometry>
            <mesh filename="meshes/converted_Upper_Arm_Motor_4c4c4cff.obj"/>
         </geometry>
      </visual>
   </link>
   <link name="Pitch_R_jointbody">
      <inertial>
         <origin xyz="0.0 0.0 0.0" rpy="0.0 0.0 0.0"/>
         <mass value="0.001"/>
         <inertia ixx="1e-09" iyy="1e-09" izz="1e-09" ixy="0" ixz="0" iyz="0"/>
      </inertial>
   </link>
   <joint type="revolute" name="Pitch_R">
      <parent link="Rotation_Pitch_R"/>
      <child link="Pitch_R_jointbody"/>
      <origin xyz="0.0 0.1025 0.0306" rpy="1.5708005694372709 0.0 0.0"/>
      <axis xyz="-1.0 0.0 0.0"/>
      <limit lower="-0.1" upper="3.45" effort="100" velocity="100"/>
   </joint>
   <joint type="fixed" name="Pitch_R_offset">
      <parent link="Pitch_R_jointbody"/>
      <child link="Upper_Arm_2"/>
      <origin xyz="-0.0 -0.0 -0.0" rpy="0.0 0.0 0.0"/>
   </joint>
   <link name="Lower_Arm_2">
      <inertial>
         <origin xyz="-0.00339604 0.00137796 0.0768007" rpy="0.20308395840613425 -0.02044137496185705 1.5727849239911165"/>
         <mass value="0.147968"/>
         <inertia ixx="0.000138803" iyy="0.000107748" izz="4.84242e-05" ixy="0" ixz="0" iyz="0"/>
      </inertial>
      <visual name="Lower_Arm">
         <origin xyz="-0.003342960129966465 0.0006631925498791134 0.06445247050319962" rpy="0.1342575042053914 0.01251196087919082 1.5777756799308937"/>
         <geometry>
            <mesh filename="meshes/converted_Lower_Arm_4c4c4cff.obj"/>
         </geometry>
      </visual>
      <visual name="Lower_Arm_Motor">
         <origin xyz="0.00028232823794038526 0.005199999409811129 0.12346637773743836" rpy="-0.024916692845763144 0.0 1.5707963267948966"/>
         <geometry>
            <mesh filename="meshes/converted_Lower_Arm_Motor_4c4c4cff.obj"/>
         </geometry>
      </visual>
   </link>
   <link name="Elbow_R_jointbody">
      <inertial>
         <origin xyz="0.0 0.0 0.0" rpy="0.0 0.0 0.0"/>
         <mass value="0.001"/>
         <inertia ixx="1e-09" iyy="1e-09" izz="1e-09" ixy="0" ixz="0" iyz="0"/>
      </inertial>
   </link>
   <joint type="revolute" name="Elbow_R">
      <parent link="Upper_Arm_2"/>
      <child link="Elbow_R_jointbody"/>
      <origin xyz="0.0 0.11257 0.028" rpy="-1.5708005694372709 0.0 0.0"/>
      <axis xyz="1.0 0.0 0.0"/>
      <limit lower="-0.2" upper="3.14159" effort="100" velocity="100"/>
   </joint>
   <joint type="fixed" name="Elbow_R_offset">
      <parent link="Elbow_R_jointbody"/>
      <child link="Lower_Arm_2"/>
      <origin xyz="-0.0 -0.0 -0.0" rpy="0.0 0.0 0.0"/>
   </joint>
   <link name="Wrist_Pitch_Roll_2">
      <inertial>
         <origin xyz="-0.00852653 -0.0352279 -2.34622e-05" rpy="1.769584329819999 -1.5669891177302473 1.5238046200474322"/>
         <mass value="0.0661321"/>
         <inertia ixx="3.45403e-05" iyy="2.39041e-05" izz="1.94704e-05" ixy="0" ixz="0" iyz="0"/>
      </inertial>
      <visual name="Wrist_Pitch_Roll">
         <origin xyz="-0.006684628764382254 -0.02753016370096717 2.7278930108091446e-05" rpy="2.692099912871597 -1.568603642439537 -1.672760013668218"/>
         <geometry>
            <mesh filename="meshes/converted_Wrist_Pitch_Roll_4c4c4cff.obj"/>
         </geometry>
      </visual>
      <visual name="Wrist_Pitch_Roll_Motor">
         <origin xyz="-0.012298905250543843 -0.043588838749783344 8.634577517040281e-08" rpy="2.960861846183543 -1.5707963267948966 0.0"/>
         <geometry>
            <mesh filename="meshes/converted_Wrist_Pitch_Roll_Motor_4c4c4cff.obj"/>
         </geometry>
      </visual>
   </link>
   <link name="Wrist_Pitch_R_jointbody">
      <inertial>
         <origin xyz="0.0 0.0 0.0" rpy="0.0 0.0 0.0"/>
         <mass value="0.001"/>
         <inertia ixx="1e-09" iyy="1e-09" izz="1e-09" ixy="0" ixz="0" iyz="0"/>
      </inertial>
   </link>
   <joint type="revolute" name="Wrist_Pitch_R">
      <parent link="Lower_Arm_2"/>
      <child link="Wrist_Pitch_R_jointbody"/>
      <origin xyz="0.0 0.0052 0.1349" rpy="-1.5708005694372709 0.0 0.0"/>
      <axis xyz="1.0 0.0 0.0"/>
      <limit lower="-1.8" upper="1.8" effort="100" velocity="100"/>
   </joint>
   <joint type="fixed" name="Wrist_Pitch_R_offset">
      <parent link="Wrist_Pitch_R_jointbody"/>
      <child link="Wrist_Pitch_Roll_2"/>
      <origin xyz="-0.0 -0.0 -0.0" rpy="0.0 0.0 0.0"/>
   </joint>
   <link name="Fixed_Jaw_2">
      <inertial>
         <origin xyz="0.00552377 -0.0280167 0.000483583" rpy="1.7053264699642203 -1.4443521692125436 0.28382999813639964"/>
         <mass value="0.0929859"/>
         <inertia ixx="5.03136e-05" iyy="4.64098e-05" izz="2.72961e-05" ixy="0" ixz="0" iyz="0"/>
      </inertial>
      <visual name="Fixed_Jaw_part1">
         <origin xyz="0.002370830625295638 -0.02259375434368848 9.352991370092149e-20" rpy="1.5707963267948966 0.0 1.5707963267948966"/>
         <geometry>
            <mesh filename="meshes/converted_Fixed_Jaw_part1_4c4c4cff.obj"/>
         </geometry>
      </visual>
      <visual name="Fixed_Jaw_part2">
         <origin xyz="0.02072306865830847 -0.06056148912160309 -2.989134148987697e-05" rpy="1.5699131300500286 0.0 -0.25989517792548344"/>
         <geometry>
            <mesh filename="meshes/converted_Fixed_Jaw_part2_4c4c4cff.obj"/>
         </geometry>
      </visual>
   </link>
   <link name="Wrist_Roll_R_jointbody">
      <inertial>
         <origin xyz="0.0 0.0 0.0" rpy="0.0 0.0 0.0"/>
         <mass value="0.001"/>
         <inertia ixx="1e-09" iyy="1e-09" izz="1e-09" ixy="0" ixz="0" iyz="0"/>
      </inertial>
   </link>
   <joint type="revolute" name="Wrist_Roll_R">
      <parent link="Wrist_Pitch_Roll_2"/>
      <child link="Wrist_Roll_R_jointbody"/>
      <origin xyz="0.0 -0.0601 0.0" rpy="3.141592653589793 1.5707920841525227 3.141592653589793"/>
      <axis xyz="0.0 -1.0 0.0"/>
      <limit lower="-3.14159" upper="3.14159" effort="100" velocity="100"/>
   </joint>
   <joint type="fixed" name="Wrist_Roll_R_offset">
      <parent link="Wrist_Roll_R_jointbody"/>
      <child link="Fixed_Jaw_2"/>
      <origin xyz="-0.0 -0.0 -0.0" rpy="0.0 0.0 0.0"/>
   </joint>
   <link name="Moving_Jaw_2">
      <inertial>
         <origin xyz="-0.00161745 -0.0303473 0.000449646" rpy="1.5993733432394677 -0.000869655493578092 -0.06605652478637691"/>
         <mass value="0.0202444"/>
         <inertia ixx="1.11265e-05" iyy="8.99651e-06" izz="2.99548e-06" ixy="0" ixz="0" iyz="0"/>
      </inertial>
      <visual name="Moving_Jaw_part1">
         <origin xyz="-0.000891446135938168 -0.005684315226972102 3.5394351057425176e-20" rpy="0.0 0.0 0.0"/>
         <geometry>
            <mesh filename="meshes/converted_Moving_Jaw_part1_1a1a1aff.obj"/>
         </geometry>
      </visual>
      <visual name="Moving_Jaw_part2">
         <origin xyz="-0.0009820987070827286 -0.03622216970663146 -1.7316727853332697e-05" rpy="1.563751479169175 -0.011936849368613167 -0.03760638216005585"/>
         <geometry>
            <mesh filename="meshes/converted_Moving_Jaw_part2_1a1a1aff.obj"/>
         </geometry>
      </visual>
      <visual name="Moving_Jaw_part3">
         <origin xyz="-0.005920968594094594 -0.06541126295518045 0.00015843005340199895" rpy="1.5707963267948966 0.0 -0.23361822681618516"/>
         <geometry>
            <mesh filename="meshes/converted_Moving_Jaw_part3_1a1a1aff.obj"/>
         </geometry>
      </visual>
   </link>
   <link name="Jaw_R_jointbody">
      <inertial>
         <origin xyz="0.0 0.0 0.0" rpy="0.0 0.0 0.0"/>
         <mass value="0.001"/>
         <inertia ixx="1e-09" iyy="1e-09" izz="1e-09" ixy="0" ixz="0" iyz="0"/>
      </inertial>
   </link>
   <joint type="revolute" name="Jaw_R">
      <parent link="Fixed_Jaw_2"/>
      <child link="Jaw_R_jointbody"/>
      <origin xyz="-0.0202 -0.0244 0.0" rpy="-3.141585307175796 -2.4868995751603507e-14 -2.953185290772602"/>
      <axis xyz="0.0 0.0 1.0"/>
      <limit lower="-3.14159" upper="3.14159" effort="100" velocity="100"/>
   </joint>
   <joint type="fixed" name="Jaw_R_offset">
      <parent link="Jaw_R_jointbody"/>
      <child link="Moving_Jaw_2"/>
      <origin xyz="-0.0 -0.0 -0.0" rpy="0.0 0.0 0.0"/>
   </joint>
   <link name="head_pan_link">
      <inertial>
         <origin xyz="0.0 0.0 0.0" rpy="1.6083491016293086 -1.4460437807444741 0.022248424412690926"/>
         <mass value="2.2556"/>
         <inertia ixx="0.0184878" iyy="0.0128242" izz="0.00948808" ixy="0" ixz="0" iyz="0"/>
      </inertial>
   </link>
   <link name="head_pan_joint_jointbody">
      <inertial>
         <origin xyz="0.0 0.0 0.0" rpy="0.0 0.0 0.0"/>
         <mass value="0.001"/>
         <inertia ixx="1e-09" iyy="1e-09" izz="1e-09" ixy="0" ixz="0" iyz="0"/>
      </inertial>
   </link>
   <joint type="revolute" name="head_pan_joint">
      <parent link="chassis"/>
      <child link="head_pan_joint_jointbody"/>
      <origin xyz="-0.125 0.0 0.91" rpy="0.0 0.0 0.0"/>
      <axis xyz="0.0 0.0 1.0"/>
      <limit lower="-1.57" upper="1.57" effort="100" velocity="100"/>
   </joint>
   <joint type="fixed" name="head_pan_joint_offset">
      <parent link="head_pan_joint_jointbody"/>
      <child link="head_pan_link"/>
      <origin xyz="-0.0 -0.0 -0.0" rpy="0.0 0.0 0.0"/>
   </joint>
   <link name="head_tilt_link">
      <inertial>
         <origin xyz="0.0081 0.0025 0.0113" rpy="1.6009995041998226 -0.7878434428432667 -0.020505481168879958"/>
         <mass value="0.9087"/>
         <inertia ixx="0.00630102" iyy="0.00590111" izz="0.00139787" ixy="0" ixz="0" iyz="0"/>
      </inertial>
   </link>
   <link name="head_tilt_joint_jointbody">
      <inertial>
         <origin xyz="0.0 0.0 0.0" rpy="0.0 0.0 0.0"/>
         <mass value="0.001"/>
         <inertia ixx="1e-09" iyy="1e-09" izz="1e-09" ixy="0" ixz="0" iyz="0"/>
      </inertial>
   </link>
   <joint type="revolute" name="head_tilt_joint">
      <parent link="head_pan_link"/>
      <child link="head_tilt_joint_jointbody"/>
      <origin xyz="0.05 0.0 0.18" rpy="0.0 0.0 0.0"/>
      <axis xyz="0.0 1.0 0.0"/>
      <limit lower="-0.76" upper="1.45" effort="100" velocity="100"/>
   </joint>
   <joint type="fixed" name="head_tilt_joint_offset">
      <parent link="head_tilt_joint_jointbody"/>
      <child link="head_tilt_link"/>
      <origin xyz="-0.0 -0.0 -0.0" rpy="0.0 0.0 0.0"/>
   </joint>
</robot>
